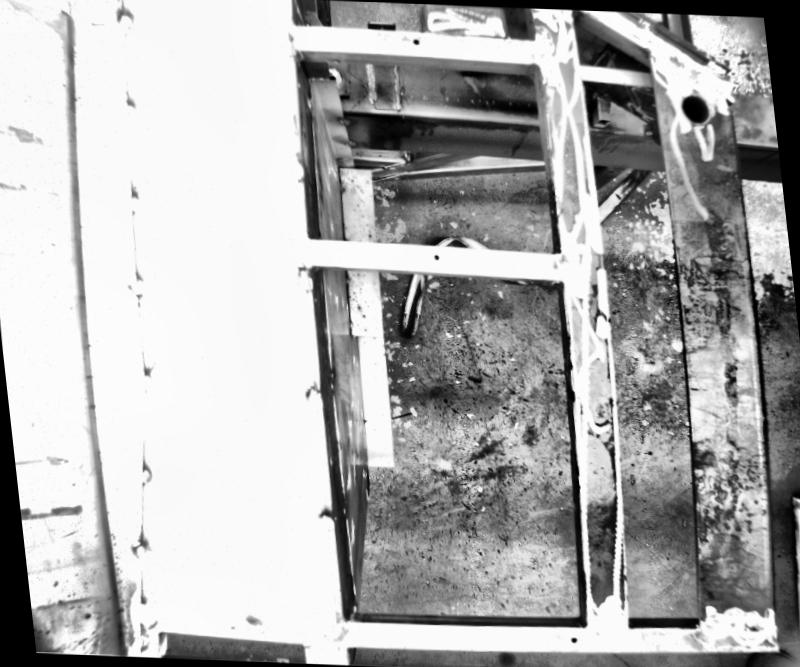hole: (675, 88, 713, 125), (431, 252, 440, 260), (411, 36, 420, 43), (569, 634, 577, 641)
